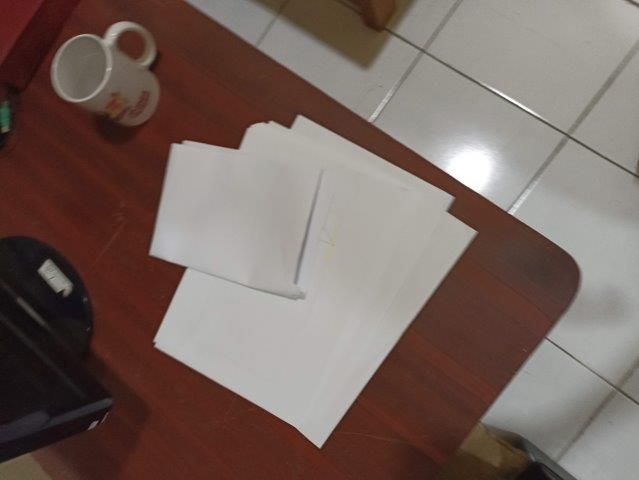kertas: (149, 113, 478, 448)
